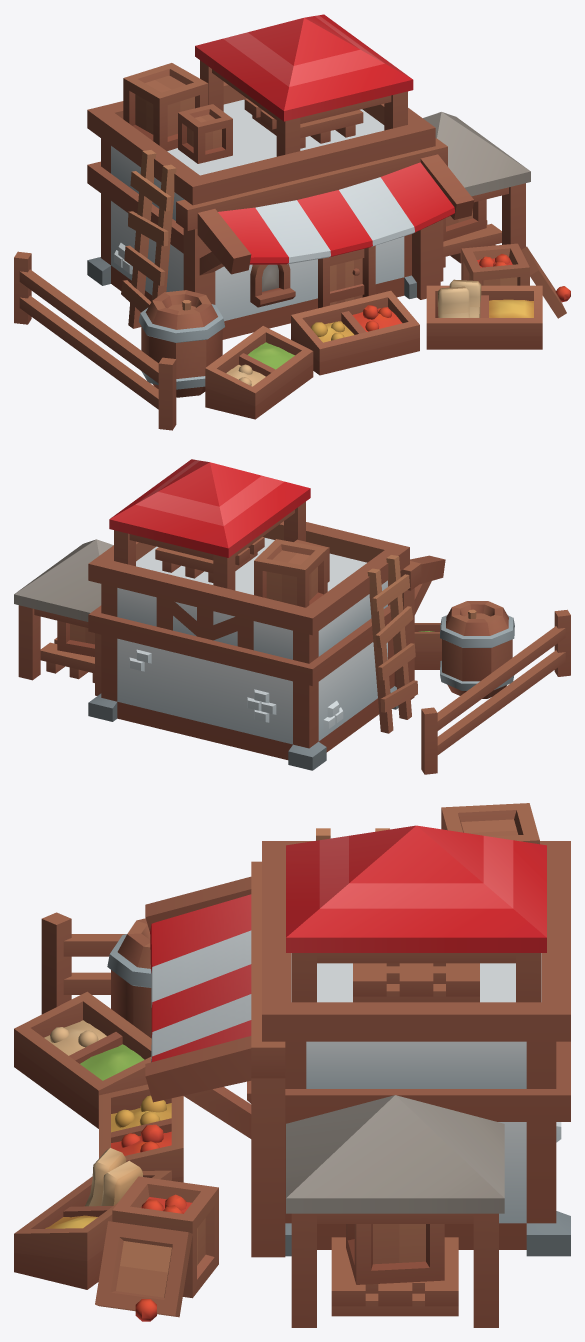
The model's file is building_market_red.glb.
3 renders of one model, top to bottom at view 1: azimuth 30°, elevation 25°; view 2: azimuth 150°, elevation 25°; view 3: azimuth 270°, elevation 25°, orthographic. The views are drawn at different scales.
Visible parts, largest first — view 1: building_market_red; view 2: building_market_red; view 3: building_market_red.
Boxes of the visible parts, box(x1,y1,x2,y2) form: building_market_red: box(14, 14, 570, 430); building_market_red: box(14, 459, 570, 774); building_market_red: box(14, 803, 570, 1327).
Bounding box in the file's own units: 1.8 × 0.9816 × 1.32.
Materials: 1 (1 with a texture image).
